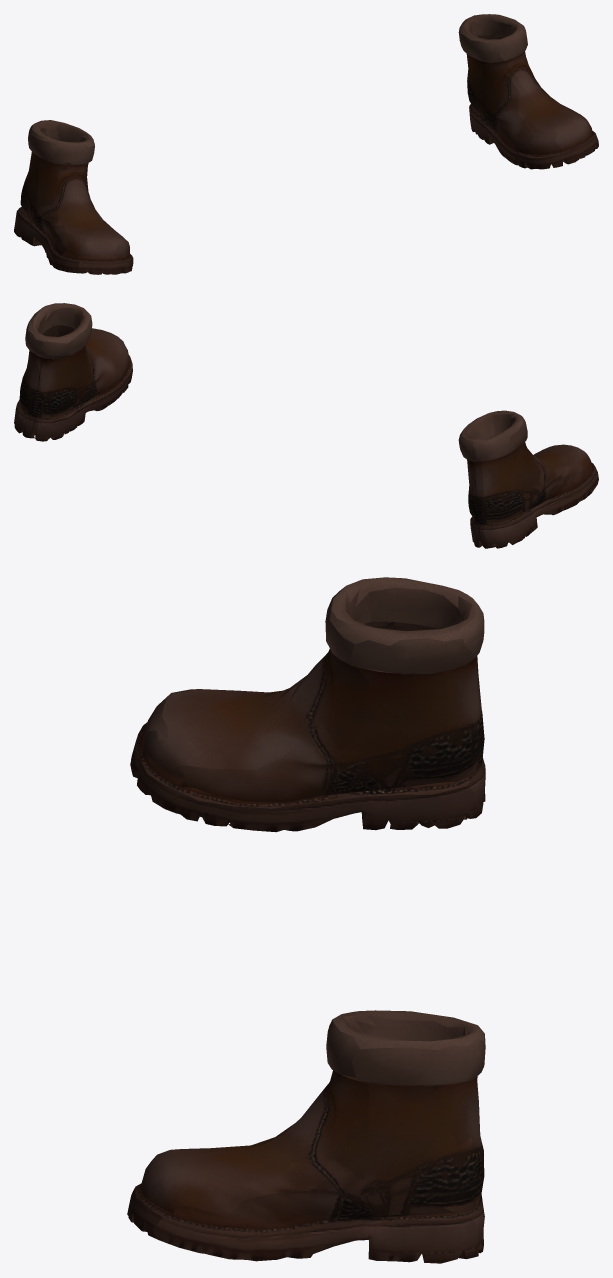
Rendered from shoes_registered.glb.
The picture shows the model from 3 angles, top to bottom: view 1: azimuth 30°, elevation 25°; view 2: azimuth 150°, elevation 25°; view 3: azimuth 270°, elevation 25°; orthographic projection. The views are drawn at different scales.
Visible parts, largest first — view 1: RBX_LC_shoes; view 2: RBX_LC_shoes; view 3: RBX_LC_shoes.
Boxes of the visible parts, x1,y1,x2,y2 form: RBX_LC_shoes: [14, 14, 598, 274]; RBX_LC_shoes: [14, 303, 598, 548]; RBX_LC_shoes: [127, 577, 485, 1263].
Bounding box in the file's own units: 0.3602 × 0.0725 × 0.105.
1 material, 1 textured.
